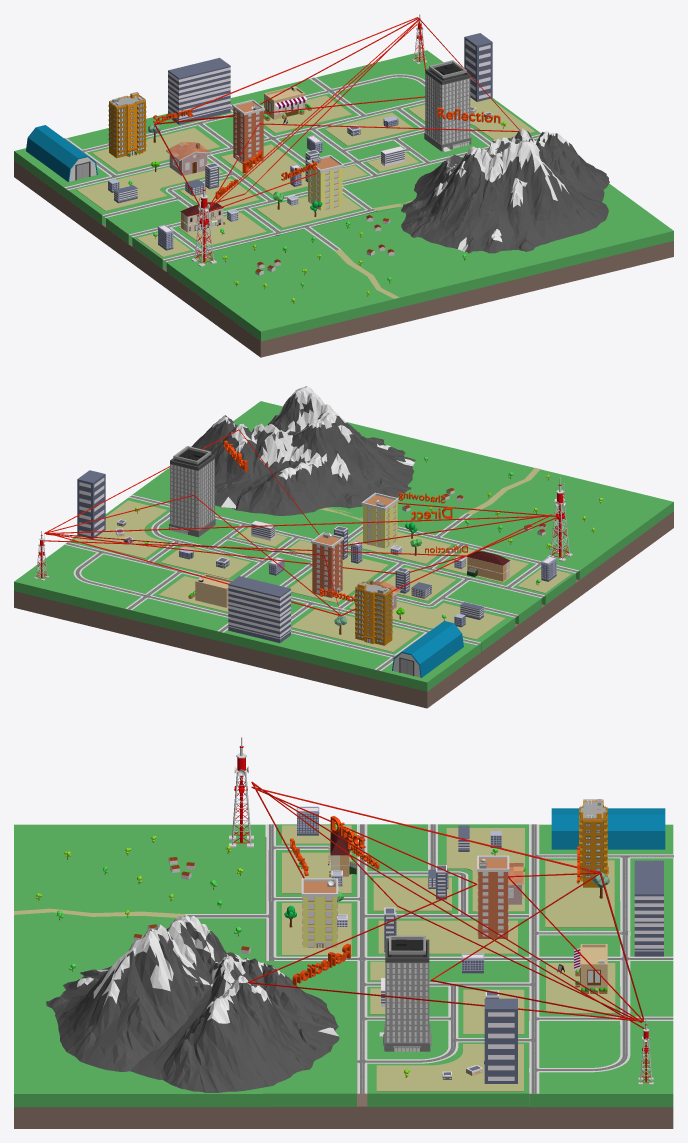
File: mapantene (1).fbx
3 views of the same model, one above another, from view 1: azimuth 30°, elevation 25°; view 2: azimuth 150°, elevation 25°; view 3: azimuth 270°, elevation 25° (orthographic). The views are drawn at different scales.
Visible parts, largest first — view 1: Plane.126, Mountain, Plane.199, Plane.206, Plane.055, Plane.008, Ufficio.001, Storage, Plane.040, Plane.010, Floor.002, Condominio.001 (+9 smaller); view 2: Plane.126, Mountain, Plane.008, Plane.199, Plane.206, Plane.055, Ufficio.001, Storage, Plane.040, Plane.010, Floor.002, Condominio.001 (+11 smaller); view 3: Plane.126, Mountain, Plane.206, Plane.199, Plane.008, Plane.055, Storage, Ufficio.001, Plane.010, Condominio.001, Plane.040, Condominio.003 (+17 smaller).
Part boxes in pixels (box(x1,y1,x2,y2)): Plane.126: box(166, 183, 673, 341); Mountain: box(401, 128, 609, 253); Plane.199: box(76, 95, 535, 257); Plane.206: box(68, 98, 540, 268); Plane.055: box(14, 160, 673, 357); Plane.008: box(14, 50, 443, 199); Ufficio.001: box(425, 73, 470, 144); Storage: box(26, 125, 97, 181); Plane.040: box(168, 57, 230, 99); Plane.010: box(464, 33, 492, 101); Floor.002: box(108, 102, 146, 152); Condominio.001: box(233, 108, 263, 163); Plane.126: box(168, 401, 673, 579); Mountain: box(191, 386, 415, 515); Plane.008: box(14, 544, 480, 691); Plane.199: box(73, 500, 571, 652); Plane.206: box(69, 469, 575, 651); Plane.055: box(14, 511, 673, 708); Ufficio.001: box(170, 459, 214, 530); Storage: box(392, 621, 463, 677); Plane.040: box(228, 576, 290, 617); Plane.010: box(77, 470, 105, 538); Floor.002: box(355, 589, 392, 640); Condominio.001: box(312, 540, 342, 597); Plane.126: box(14, 824, 265, 1107); Mountain: box(46, 915, 339, 1092); Plane.206: box(262, 824, 528, 1106); Plane.199: box(282, 825, 615, 1091); Plane.008: box(529, 824, 673, 1107); Plane.055: box(14, 837, 673, 1128); Storage: box(551, 808, 665, 849); Ufficio.001: box(385, 962, 429, 1042); Plane.010: box(484, 998, 517, 1083); Condominio.001: box(477, 872, 508, 938); Plane.040: box(634, 860, 663, 923); Condominio.003: box(302, 897, 337, 947).
Bounding box in the file's own units: 23997 × 5779 × 24565.
